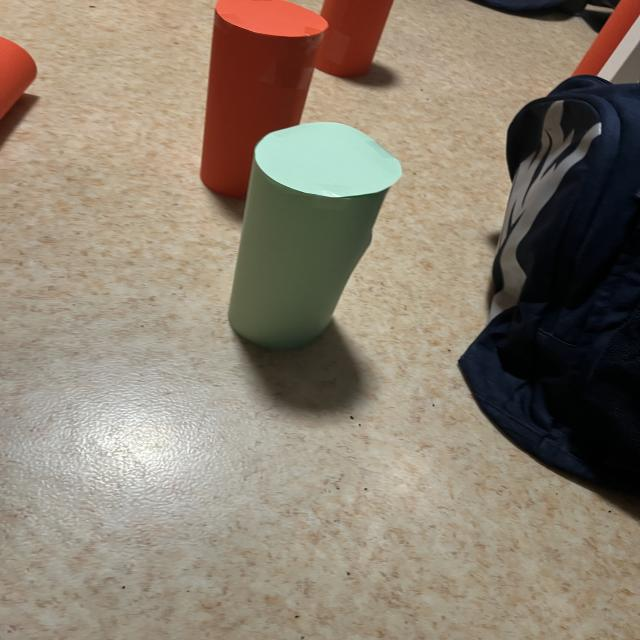meta: (228, 122, 402, 349)
przeszkoda: (200, 0, 328, 199)
